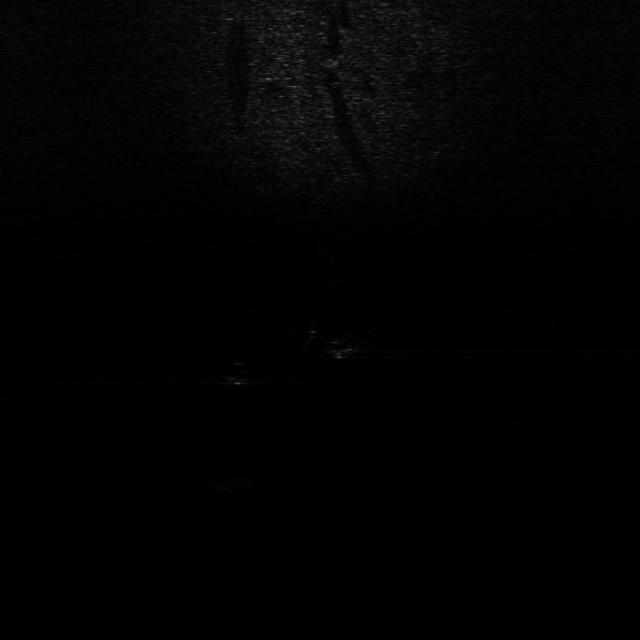ball: (212, 357, 258, 390)
circle cage: (207, 460, 258, 492)
human body: (302, 320, 392, 364)
